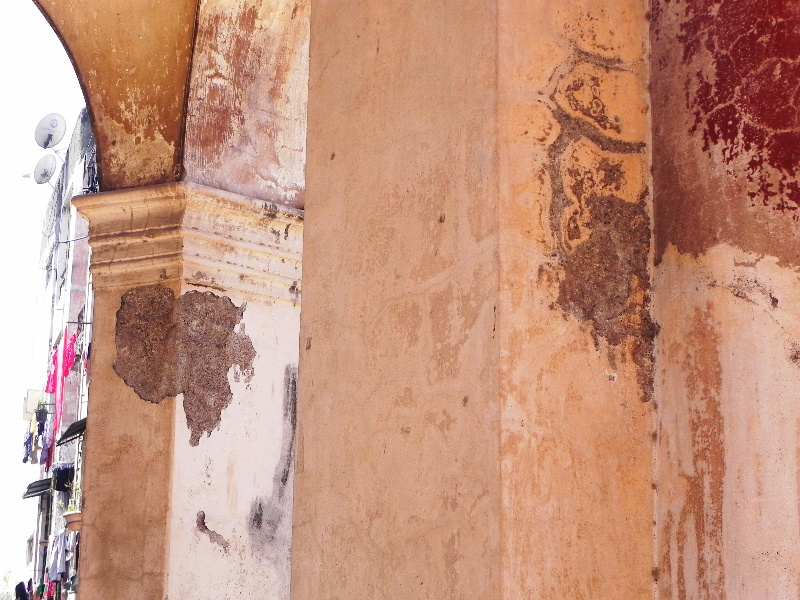Spalling: (543, 149, 663, 402), (106, 276, 261, 451)
